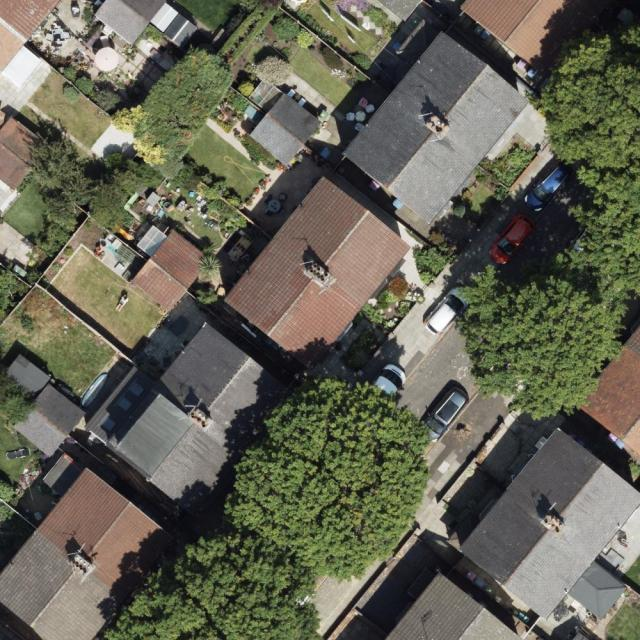roof: (83, 321, 298, 523), (219, 173, 413, 371), (341, 29, 532, 228), (457, 424, 640, 620), (0, 466, 184, 640), (461, 0, 615, 82), (382, 568, 528, 640), (573, 322, 640, 455), (132, 229, 211, 312), (129, 228, 209, 309), (249, 90, 324, 165), (0, 0, 61, 74), (0, 115, 52, 191), (373, 0, 424, 21)
skylight: (97, 415, 118, 436), (115, 395, 133, 414), (124, 382, 145, 395)
